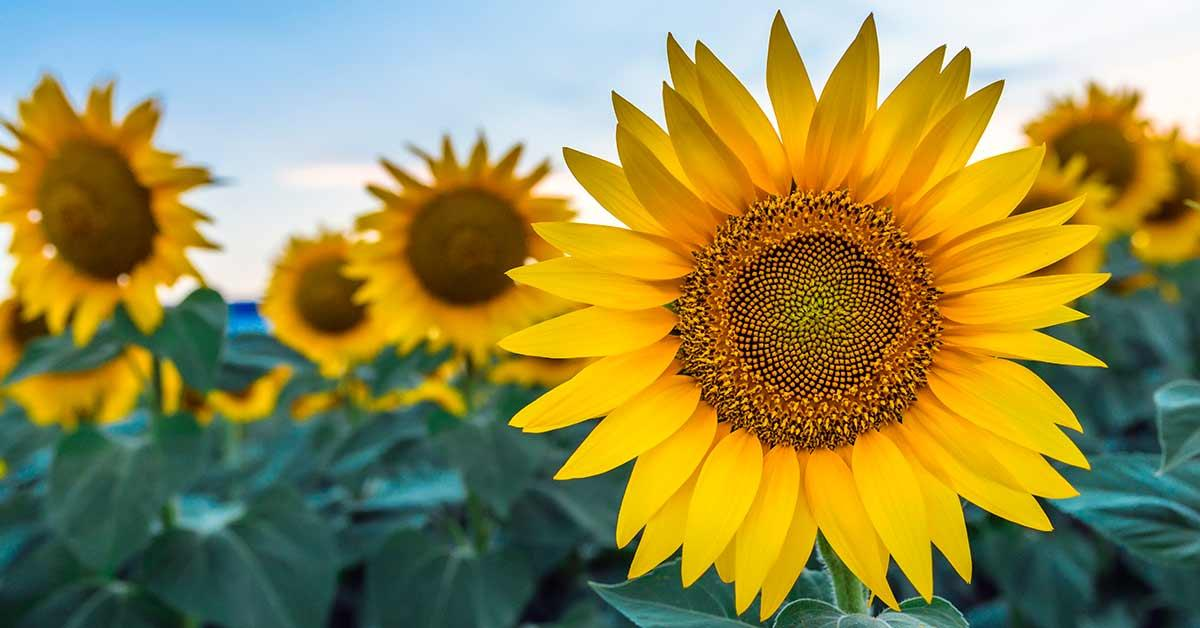sunflower: (493, 8, 1117, 585), (349, 137, 566, 355)
